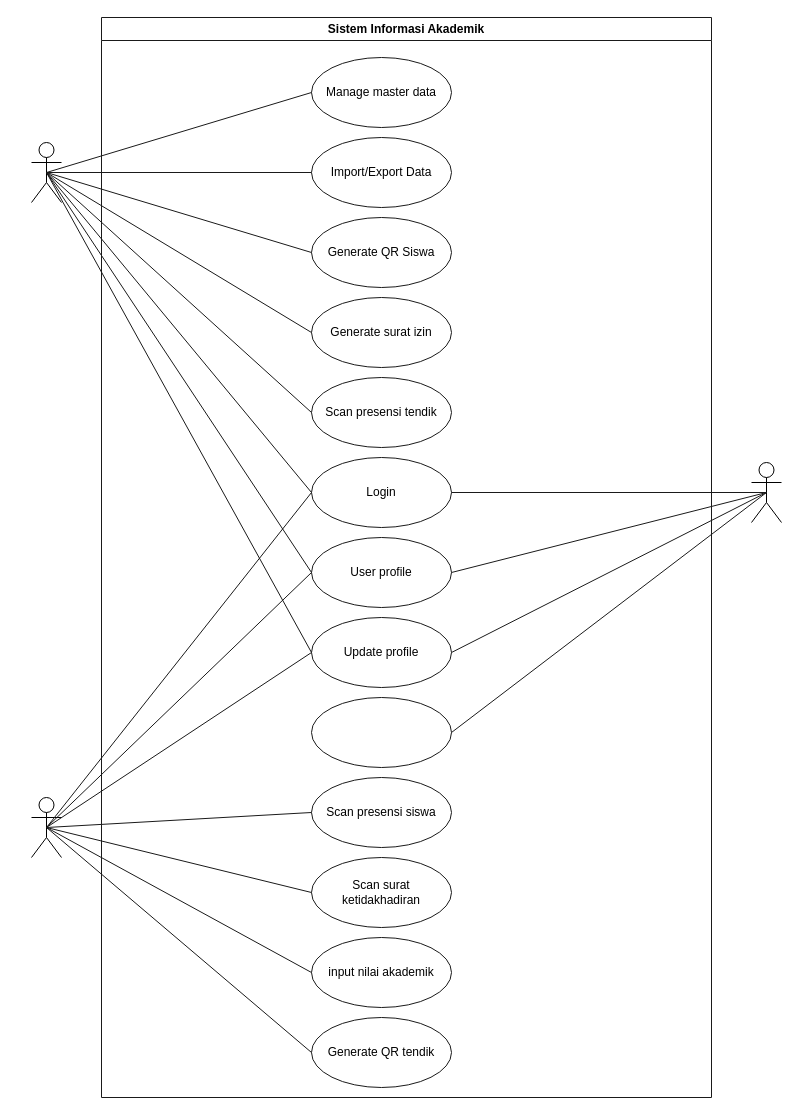
Image size: 799x1115. Some labels were removed from this diagram. The centre of each missing label's shape, as x and y in pixels:
Guru: pixel 46 827
Siswa: pixel 766 492
Staf Admin: pixel 46 172
View presensi dan nilai siswa: pixel 381 732
